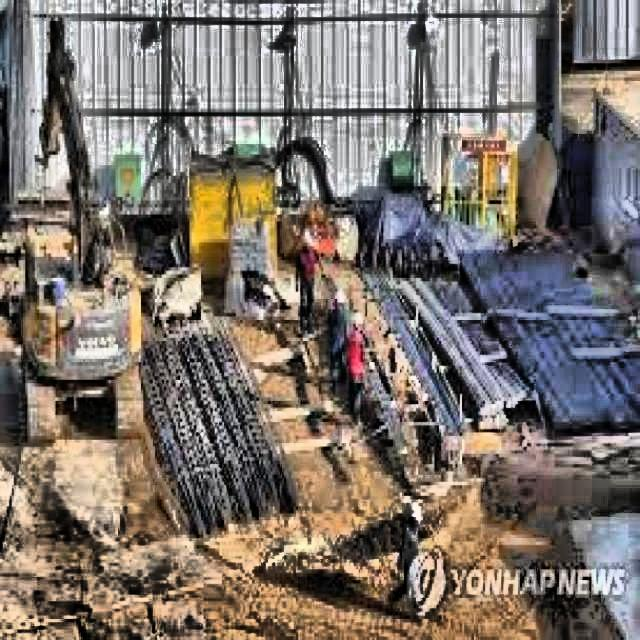bull_dozer/loader/grader: (16, 12, 143, 445)
person: (386, 502, 424, 611), (344, 311, 376, 428), (295, 228, 326, 342), (328, 286, 352, 404)
